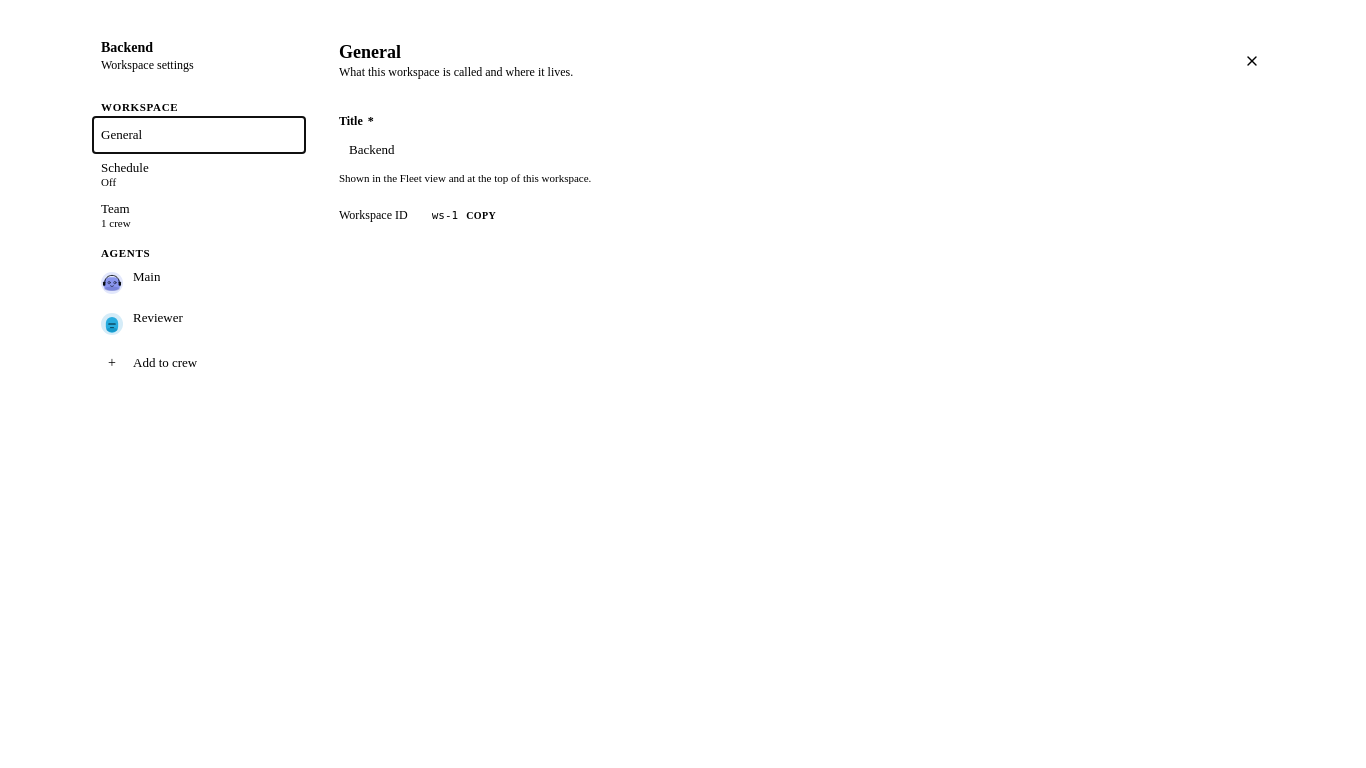
Scenario: WorkspaceSettingsModal navigation and per-page save › asks before leaving a dirty page from the sidebar: Stay keeps it, Discard goes
Type " API" into the field labelled "Title *" at {"x": 619, "y": 150}, box [339,135,899,165]
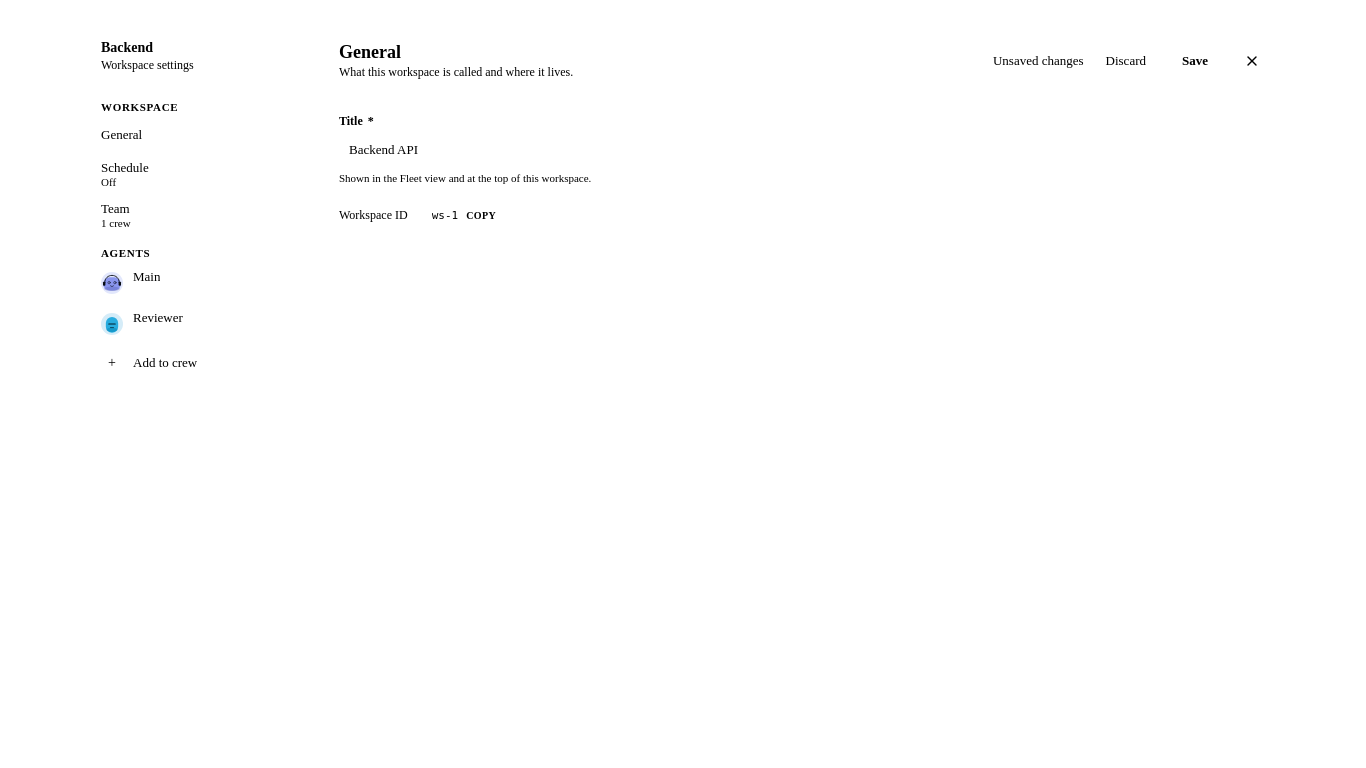
Click the button "Schedule Off" at {"x": 199, "y": 174}, box [93,154,305,194]
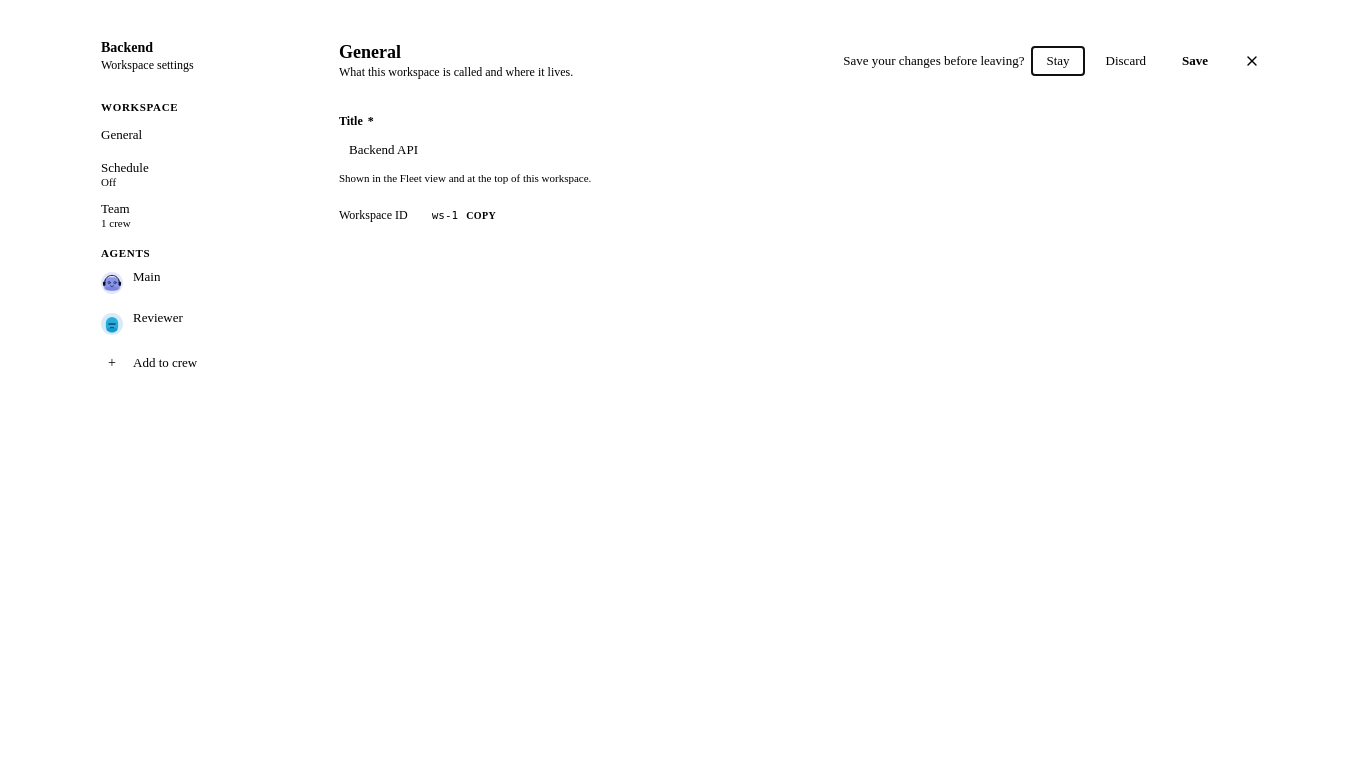
Expected: the text "Save your changes before leaving?" is shown, [843,53,1024,69]
Click the button "Stay" at {"x": 1058, "y": 61}, box [1032,47,1084,75]
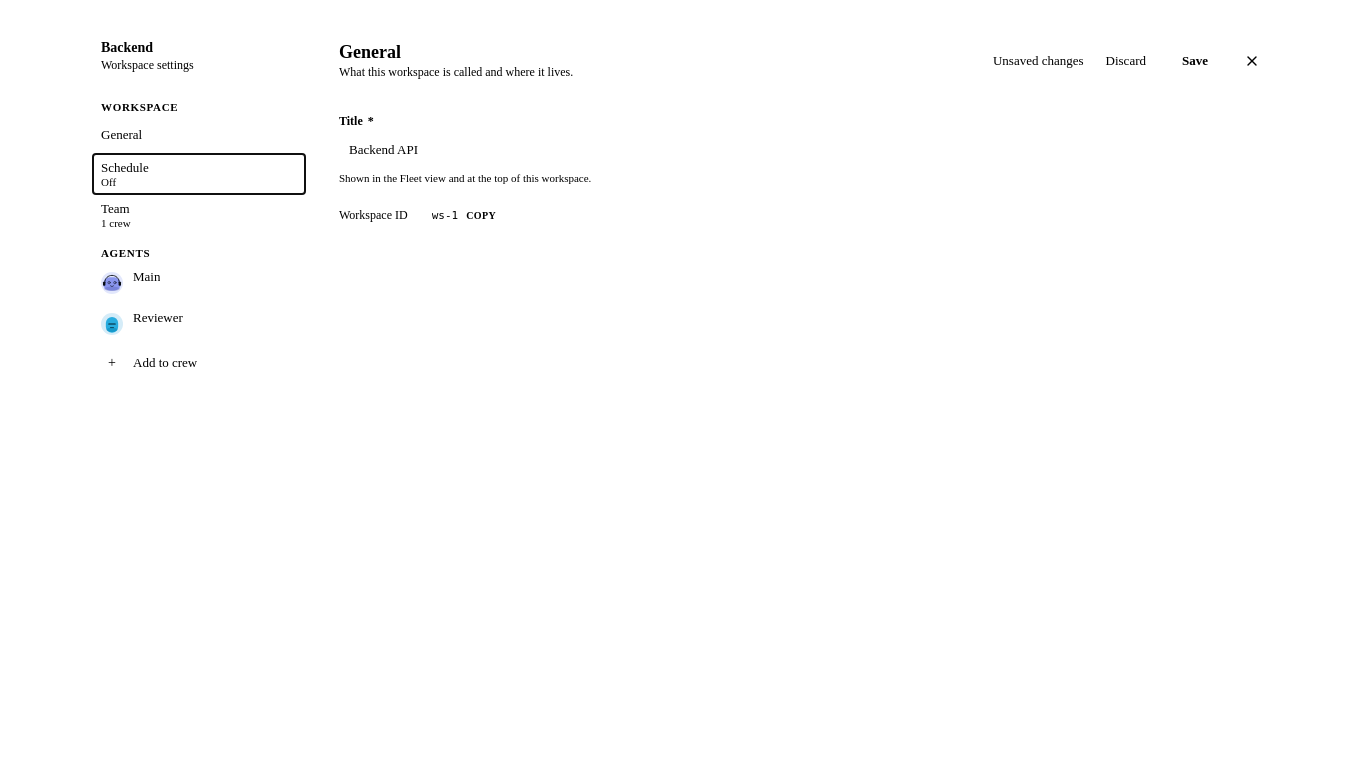
Expected: the heading "General" is shown, [339,42,401,62]
Expected: the field labelled "Title *" holds "Backend API", [339,135,899,165]
Click the button "Schedule Off" at {"x": 199, "y": 174}, box [93,154,305,194]
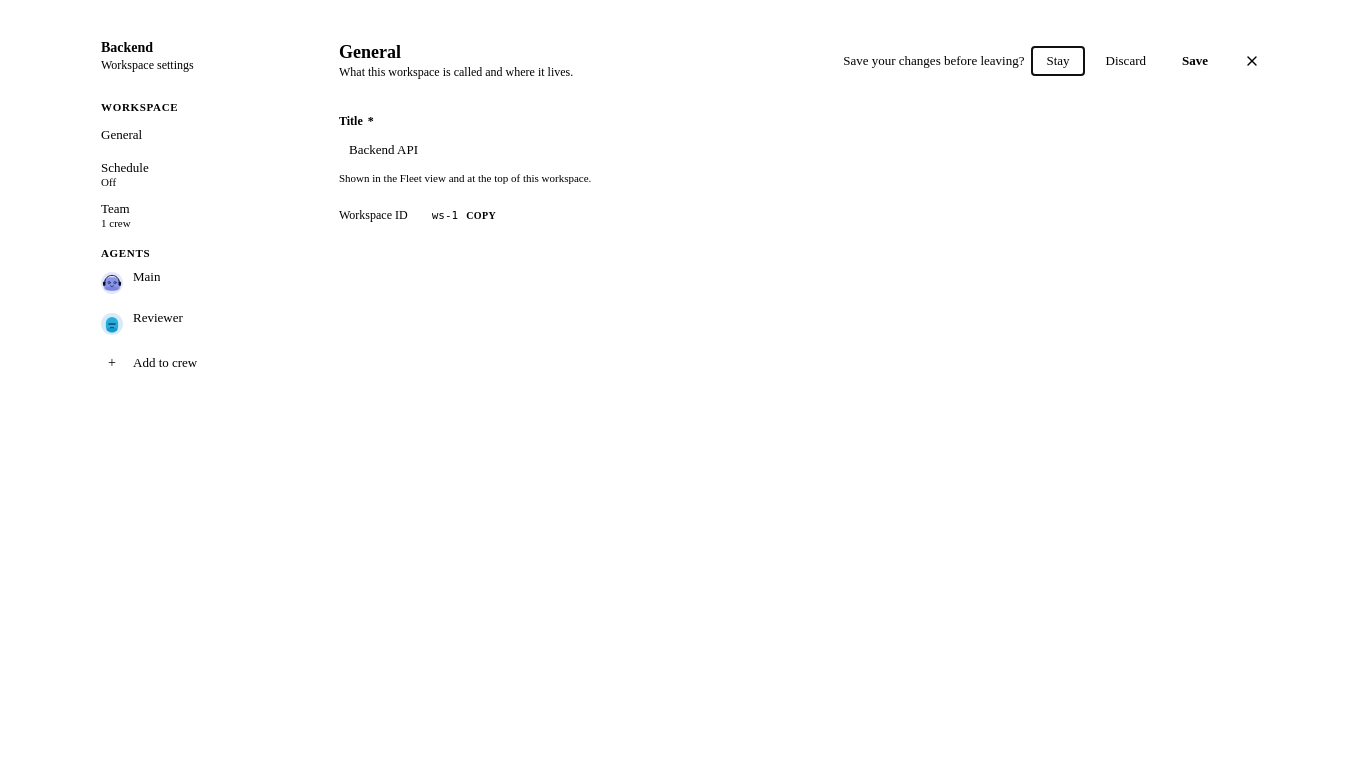
Click the button "Discard" at {"x": 1126, "y": 61}, box [1092,47,1160,75]
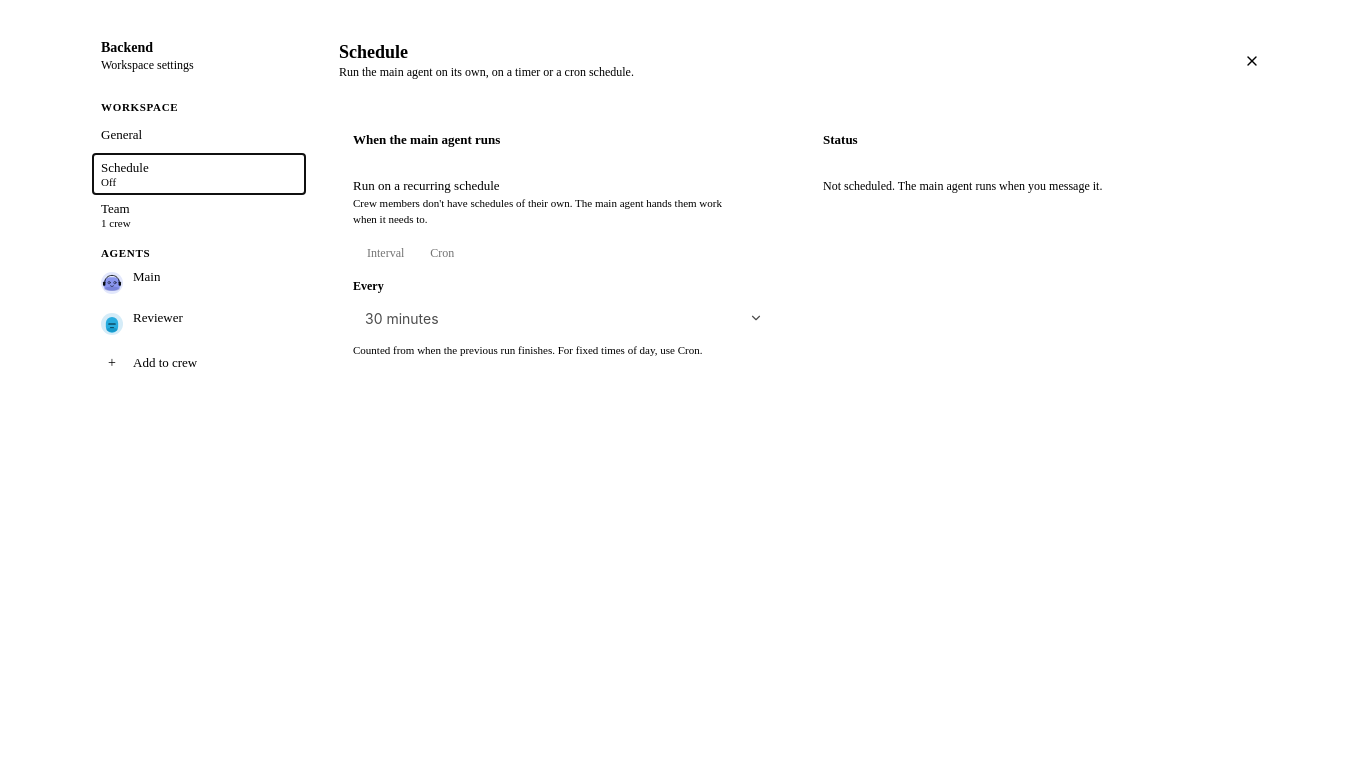
Expected: the heading "Schedule" is shown, [339,42,408,62]
